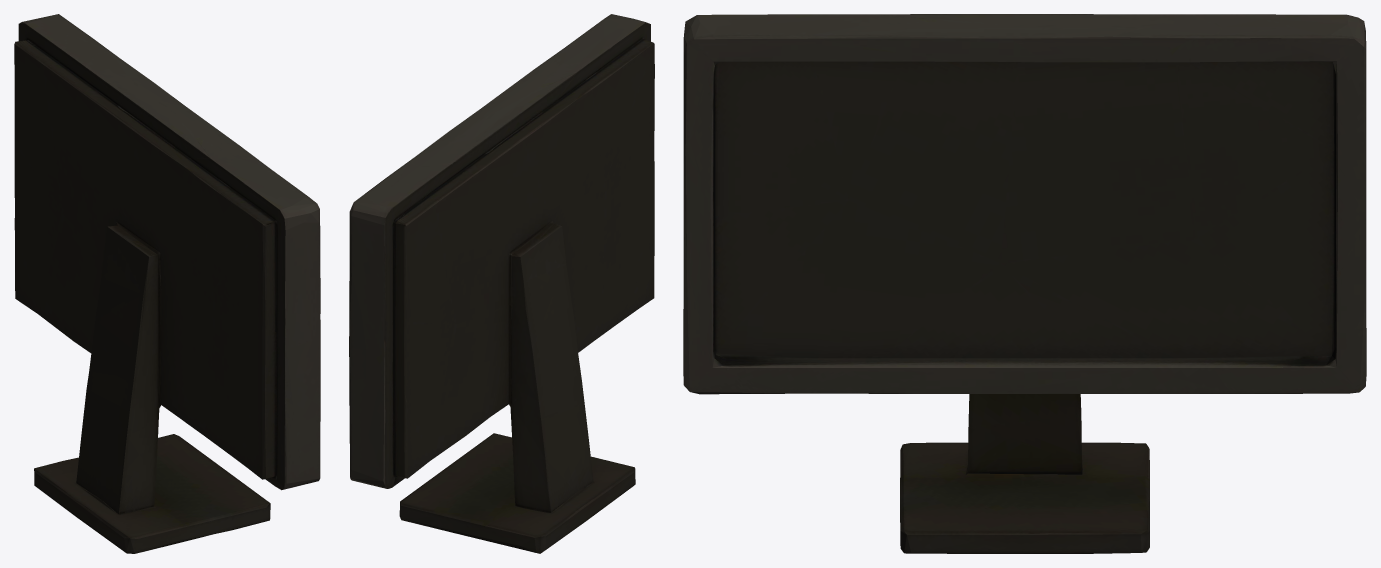
Rendered from tripo_convert_d9e28180-89da-49d6-b208-c207be9e2110.obj.
The picture shows the model from 3 angles, left to right: view 1: azimuth 30°, elevation 25°; view 2: azimuth 150°, elevation 25°; view 3: azimuth 270°, elevation 25°; orthographic projection. The views are drawn at different scales.
Visible parts, largest first — view 1: tripo_node_d9e28180-89da-49d6-b208-c207be9e2110; view 2: tripo_node_d9e28180-89da-49d6-b208-c207be9e2110; view 3: tripo_node_d9e28180-89da-49d6-b208-c207be9e2110.
Boxes of the visible parts, <box> form: tripo_node_d9e28180-89da-49d6-b208-c207be9e2110: <box>14,14,320,553</box>; tripo_node_d9e28180-89da-49d6-b208-c207be9e2110: <box>349,14,654,553</box>; tripo_node_d9e28180-89da-49d6-b208-c207be9e2110: <box>683,14,1366,553</box>.
Size of the model in its own units: 0.313 by 0.7997 by 0.9998.
1 material, 1 textured.
